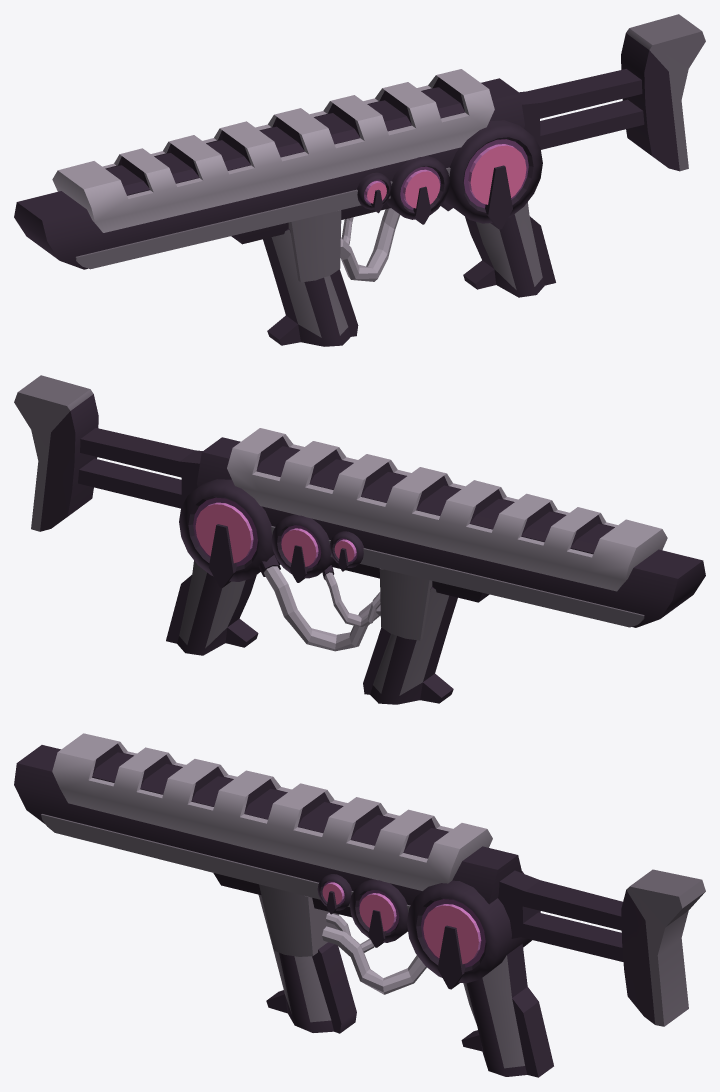
File: Gun4.fbx
3 views of the same model, one above another, from view 1: azimuth 30°, elevation 25°; view 2: azimuth 150°, elevation 25°; view 3: azimuth 330°, elevation 25° (orthographic).
Visible parts, largest first — view 1: pasted__pCube1 (×5), pasted__pasted__pCube1 (×3), pCylinder1, pasted__pCylinder1 (×2), pCube1, pCube3, pCube2; view 2: pasted__pCube1 (×5), pasted__pasted__pCube1 (×3), pCylinder1, pasted__pCylinder1 (×2), pCube3, pCube1, pCube2, pasted__pCube3; view 3: pasted__pCube1 (×5), pasted__pasted__pCube1 (×3), pCylinder1, pasted__pCylinder1 (×2), pCube1, pCube3, pCube2.
Part boxes in pixels (box(x1,y1,x2,y2)): pasted__pCube1 (×5): box(52, 69, 644, 297); pasted__pasted__pCube1 (×3): box(14, 14, 705, 346); pCylinder1: box(445, 120, 542, 223); pasted__pCylinder1 (×2): box(357, 156, 449, 219); pCube1: box(231, 78, 524, 244); pCube3: box(340, 208, 399, 281); pCube2: box(485, 165, 512, 229); pasted__pCube1 (×5): box(78, 428, 667, 655); pasted__pasted__pCube1 (×3): box(14, 375, 705, 704); pCylinder1: box(179, 479, 275, 581); pasted__pCylinder1 (×2): box(271, 514, 364, 578); pCube3: box(258, 555, 380, 651); pCube1: box(197, 437, 489, 602); pCube2: box(208, 524, 236, 587); pasted__pCube3: box(322, 565, 380, 626); pasted__pCube1 (×5): box(41, 733, 623, 1077); pasted__pasted__pCube1 (×3): box(14, 745, 705, 1033); pCylinder1: box(407, 871, 540, 983); pasted__pCylinder1 (×2): box(317, 874, 408, 942); pCube1: box(213, 846, 522, 917); pCube3: box(322, 926, 426, 994); pCube2: box(437, 925, 465, 989).
Bounding box in the file's own units: 20.1 × 6.43 × 2.61.
